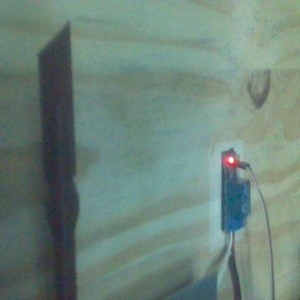cutter: (35, 18, 82, 300)
